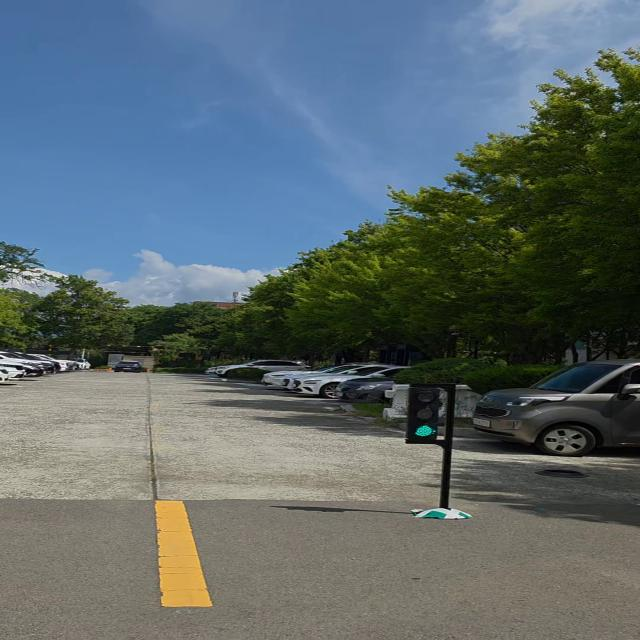green: (403, 385, 449, 444)
